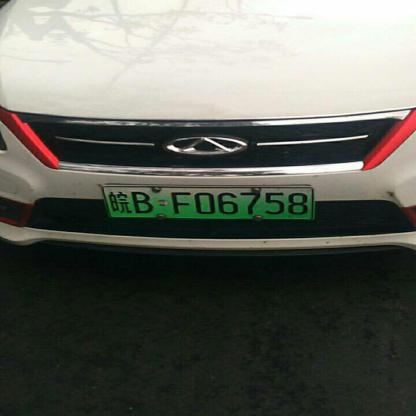lp: (102, 184, 312, 219)
